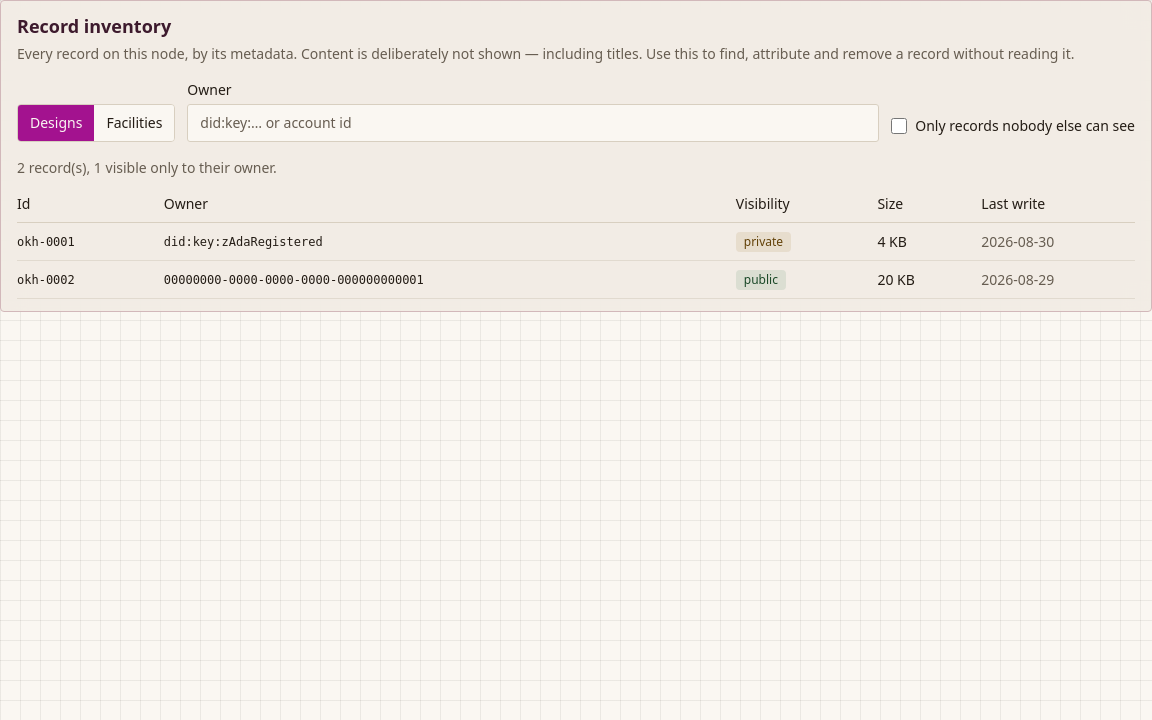
Test: InventoryPanel › distinguishes an empty node from an empty filter
Expected: the text "okh-0001" is shown, [17,223,164,260]
In the field labelled "Owner": x=533, y=123 [187,104,879,142], type "nobody"
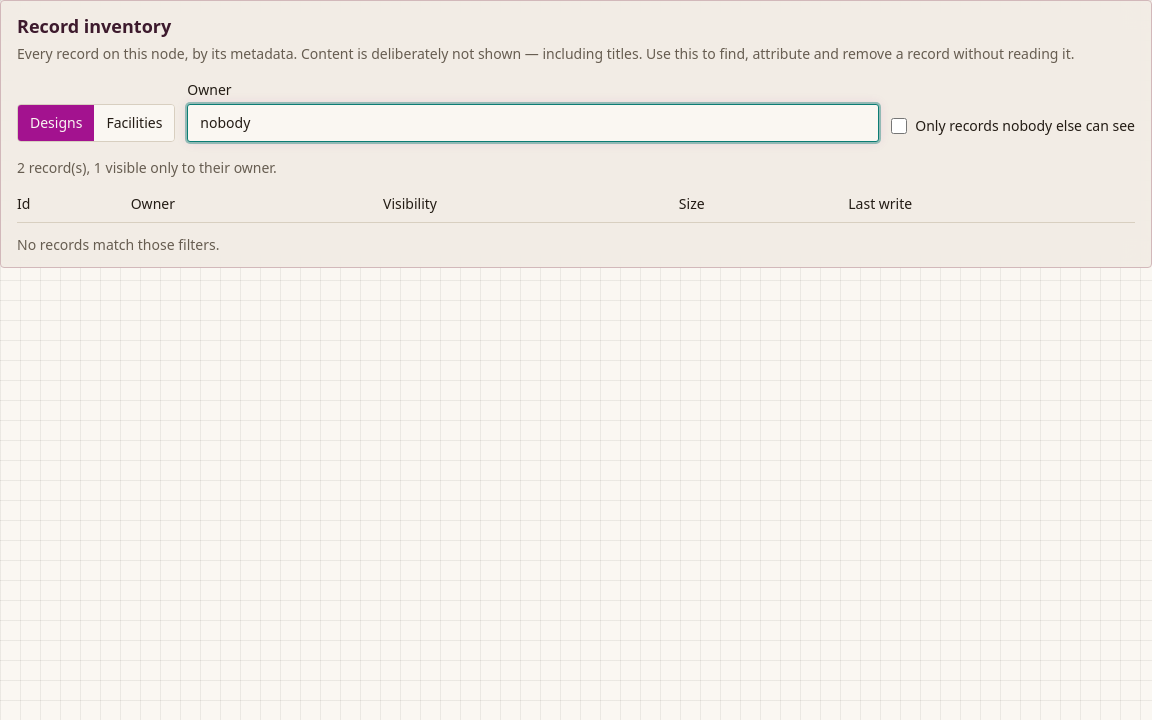
Expected: the text "No records match those filters." is shown, [17,235,220,254]
